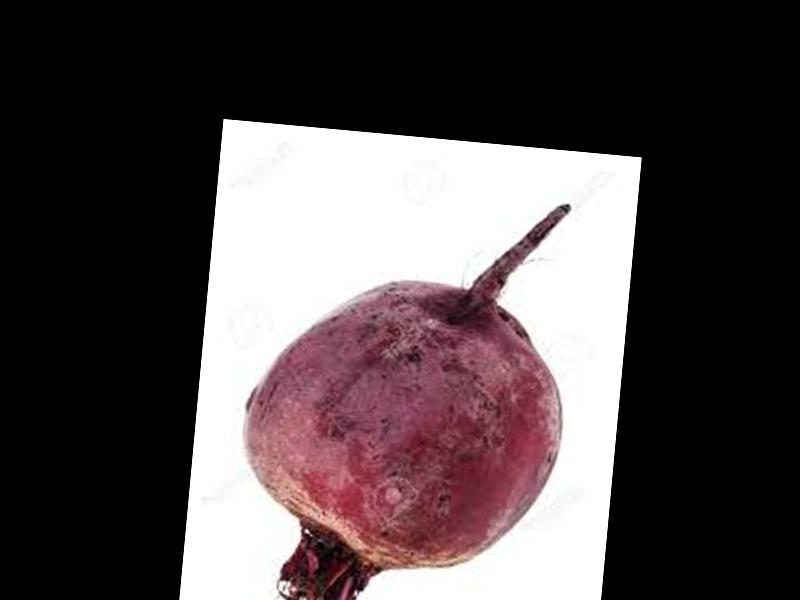Beet: (229, 181, 580, 600)
